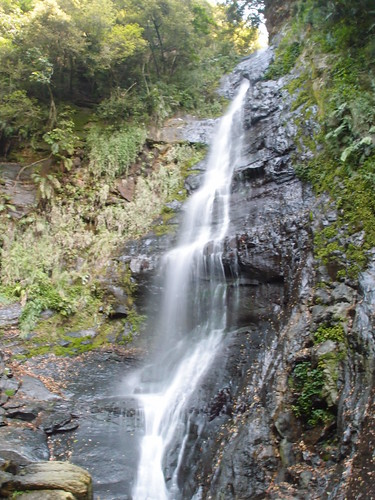wufengciWaterfall: (109, 47, 304, 482)
